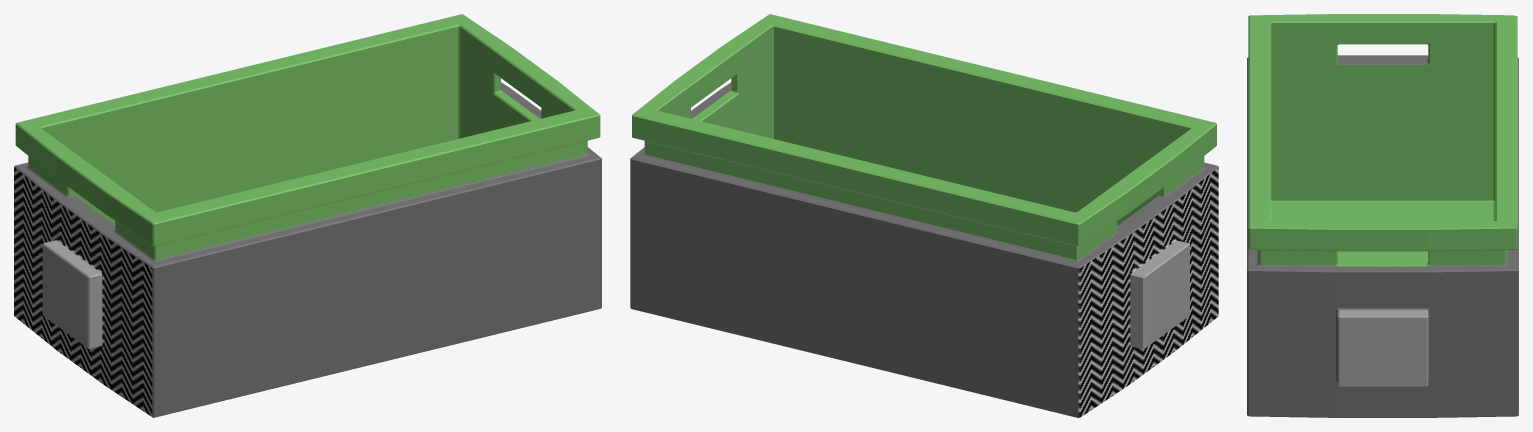
3 views of the same model, side by side, from view 1: azimuth 30°, elevation 25°; view 2: azimuth 150°, elevation 25°; view 3: azimuth 270°, elevation 25° (orthographic). The views are drawn at different scales.
Parts seen in each view (by area): view 1: SM_Box_02; view 2: SM_Box_02; view 3: SM_Box_02.
Boxes of the visible parts, box(x1,y1,x2,y2) form: SM_Box_02: box(14, 14, 601, 417); SM_Box_02: box(630, 14, 1218, 417); SM_Box_02: box(1247, 14, 1518, 417).
Size of the model in its own units: 89.9 by 44.81 by 34.4.
1 material, 1 textured.
